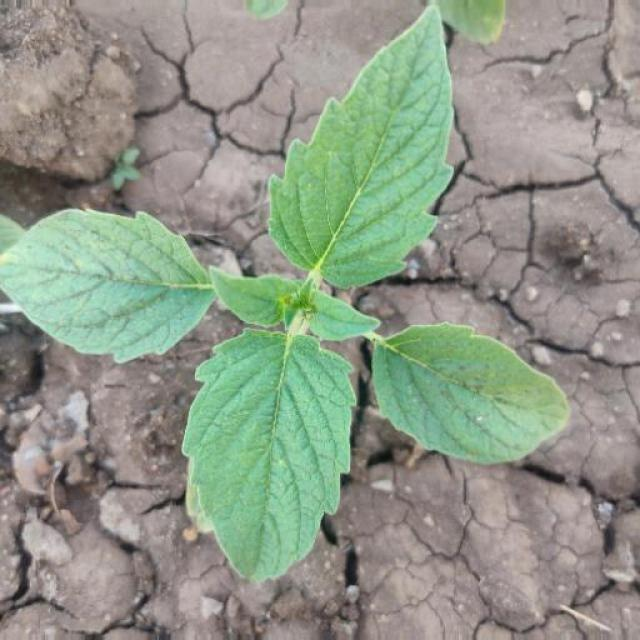crop: (1, 5, 572, 580)
